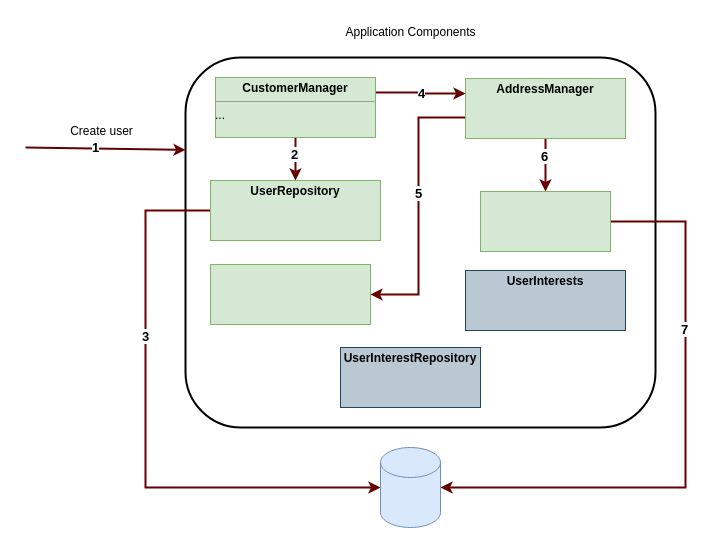
Image size: 711x545. Some labels were removed from this diagram. Each missing label, with the box of its shape:
AddressRepository: (480, 190, 610, 252)
AddressValidator ..;: (210, 264, 370, 324)
